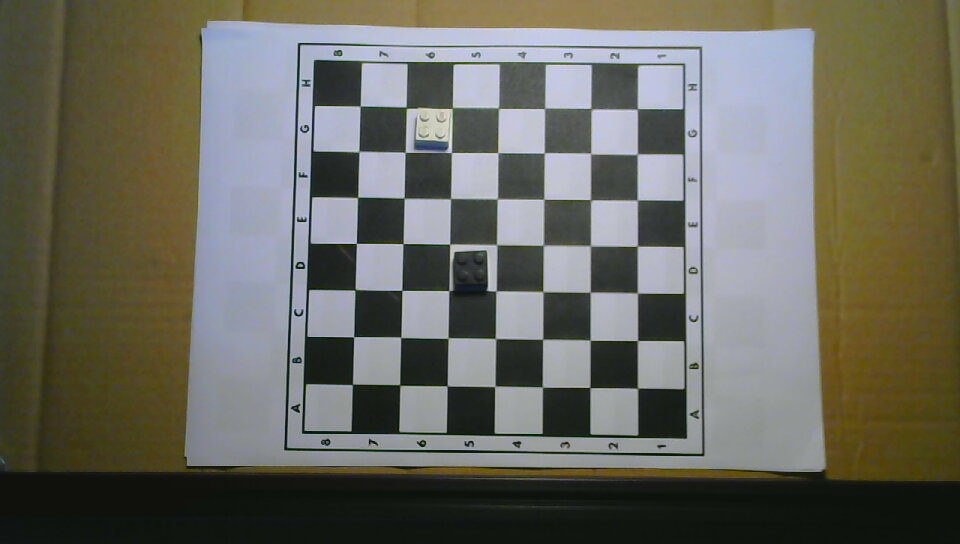bp: (453, 250, 489, 290)
wp: (415, 107, 452, 150)
